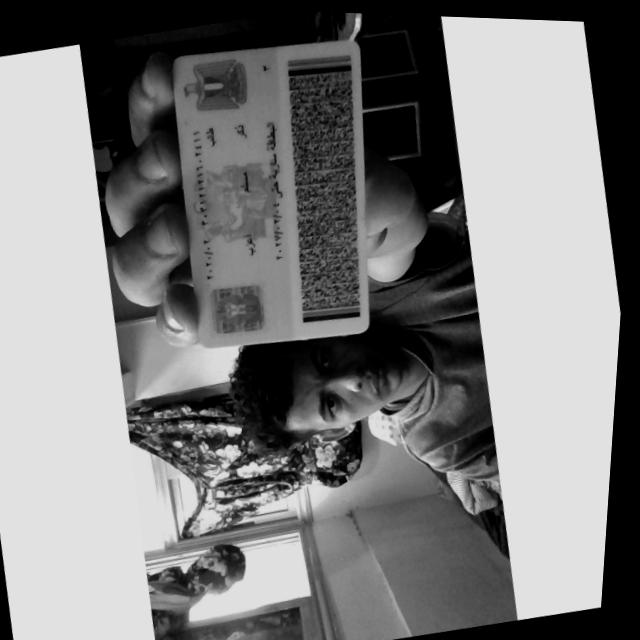id_card: (173, 40, 369, 347)
